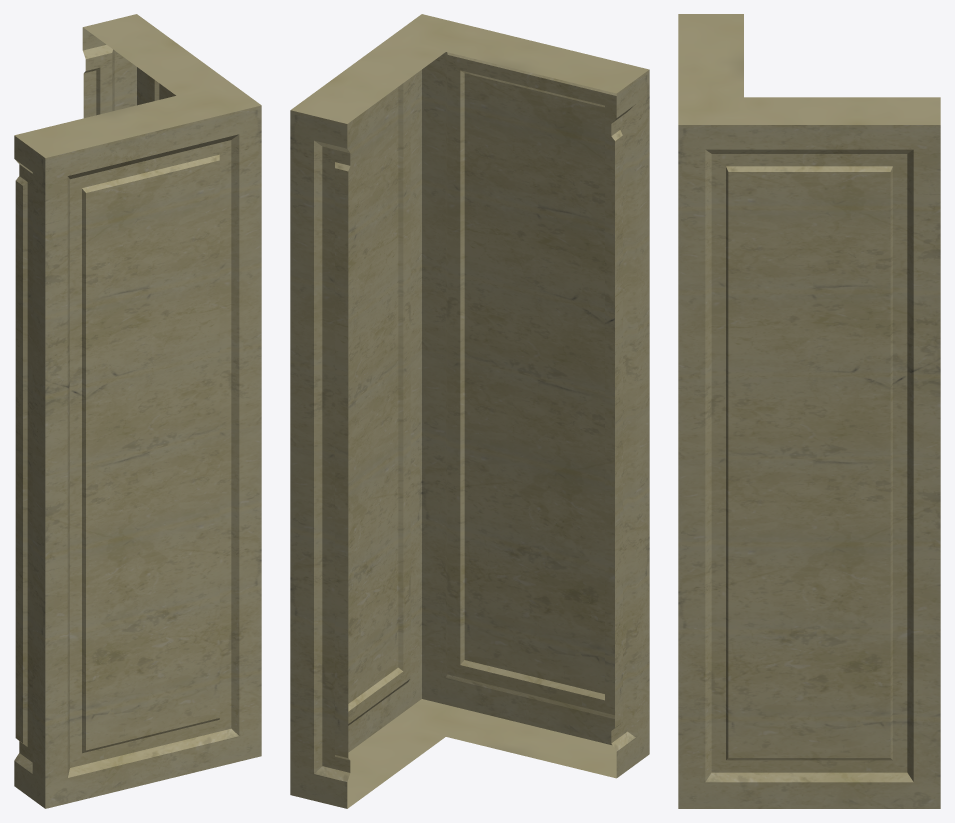
The model's file is Marble_ColumnInset_Large_Center.gltf.
3 renders of one model, left to right at view 1: azimuth 30°, elevation 25°; view 2: azimuth 150°, elevation 25°; view 3: azimuth 270°, elevation 25°, orthographic. The views are drawn at different scales.
Visible parts, largest first — view 1: Marble_ColumnInset_Large_Center; view 2: Marble_ColumnInset_Large_Center; view 3: Marble_ColumnInset_Large_Center.
Part boxes in pixels (bbox=[...]): Marble_ColumnInset_Large_Center: bbox=[14, 14, 261, 808]; Marble_ColumnInset_Large_Center: bbox=[290, 14, 649, 808]; Marble_ColumnInset_Large_Center: bbox=[678, 14, 940, 808].
Size of the model in its own units: 1.39 by 4 by 1.39.
Materials: 1 (1 with a texture image).
